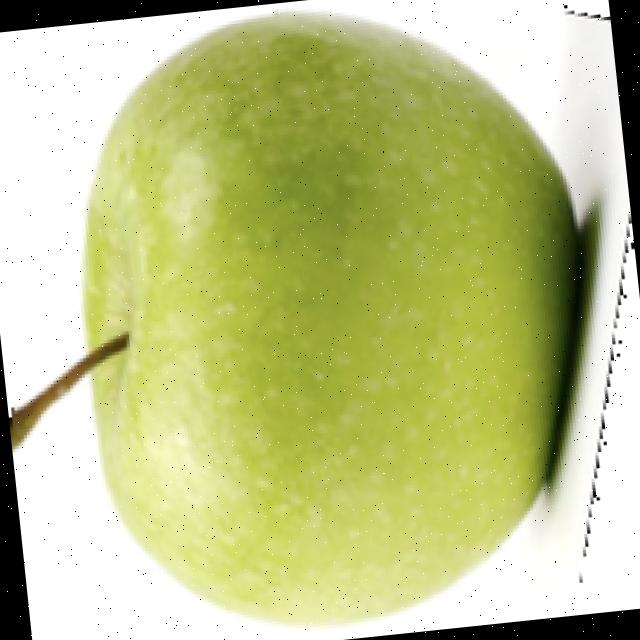apple: (7, 4, 631, 629)
